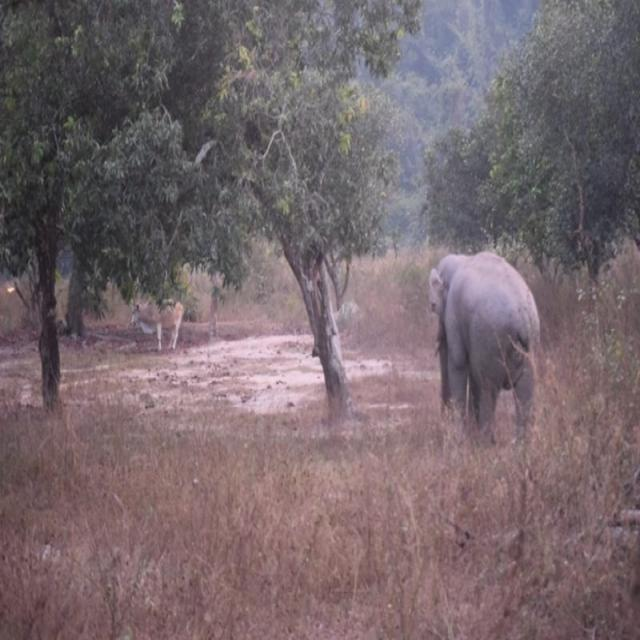Elephant: (407, 210, 562, 502)
